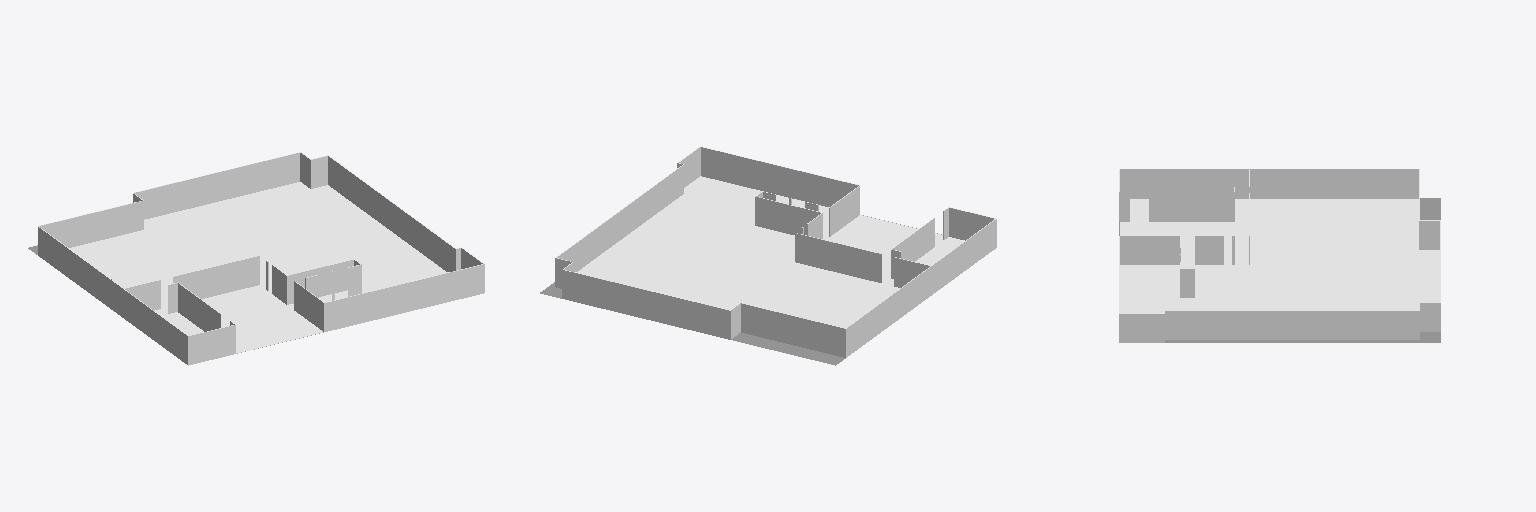
The model's file is San_Jose.obj.
3 views of the same model, side by side, from view 1: azimuth 30°, elevation 25°; view 2: azimuth 150°, elevation 25°; view 3: azimuth 270°, elevation 25° (orthographic).
Parts seen in each view (by area): view 1: room_84_146, wall_11_64, wall_5_29, wall_2_10, wall_8_47, wall_3_17, wall_65_95, wall_1_5, wall_68_113, wall_62_76, wall_73_143, wall_64_88; view 2: room_84_146, wall_5_28, wall_2_10, wall_11_65, wall_8_47, wall_3_16, wall_65_94, wall_68_112, ground_1, wall_62_76, wall_1_4, wall_73_143 (+1 smaller); view 3: room_84_146, wall_2_11, wall_8_46, wall_62_77, wall_73_142, ground_1, wall_10_58, wall_67_106, wall_4_23, wall_6_34.
Boxes of the visible parts, x1=… form: room_84_146: x1=69, y1=182, x2=447, y2=353; wall_11_64: x1=325, y1=264, x2=484, y2=331; wall_5_29: x1=134, y1=153, x2=299, y2=219; wall_2_10: x1=38, y1=227, x2=187, y2=364; wall_8_47: x1=328, y1=156, x2=455, y2=271; wall_3_17: x1=39, y1=201, x2=143, y2=247; wall_65_95: x1=173, y1=256, x2=259, y2=298; wall_1_5: x1=188, y1=325, x2=235, y2=365; wall_68_113: x1=287, y1=260, x2=353, y2=304; wall_62_76: x1=178, y1=283, x2=220, y2=331; wall_73_143: x1=294, y1=281, x2=324, y2=331; wall_64_88: x1=125, y1=280, x2=160, y2=310; room_84_146: x1=576, y1=176, x2=964, y2=327; wall_5_28: x1=562, y1=270, x2=730, y2=339; wall_2_10: x1=846, y1=219, x2=996, y2=357; wall_11_65: x1=701, y1=147, x2=858, y2=206; wall_8_47: x1=557, y1=165, x2=683, y2=271; wall_3_16: x1=741, y1=303, x2=845, y2=357; wall_65_94: x1=795, y1=233, x2=881, y2=282; wall_68_112: x1=755, y1=197, x2=820, y2=234; ground_1: x1=540, y1=215, x2=941, y2=365; wall_62_76: x1=892, y1=218, x2=934, y2=261; wall_1_4: x1=949, y1=208, x2=993, y2=240; wall_73_143: x1=830, y1=186, x2=859, y2=236; room_84_146: x1=1120, y1=199, x2=1439, y2=312; wall_2_11: x1=1120, y1=169, x2=1418, y2=198; wall_8_46: x1=1165, y1=311, x2=1419, y2=339; wall_62_77: x1=1149, y1=192, x2=1234, y2=221; wall_73_142: x1=1120, y1=236, x2=1179, y2=264; ground_1: x1=1119, y1=198, x2=1440, y2=342; wall_10_58: x1=1119, y1=314, x2=1164, y2=342; wall_67_106: x1=1195, y1=236, x2=1223, y2=264; wall_4_23: x1=1419, y1=221, x2=1439, y2=249; wall_6_34: x1=1420, y1=303, x2=1440, y2=331.
Bounding box in the file's own units: 2656 × 250 × 2498.